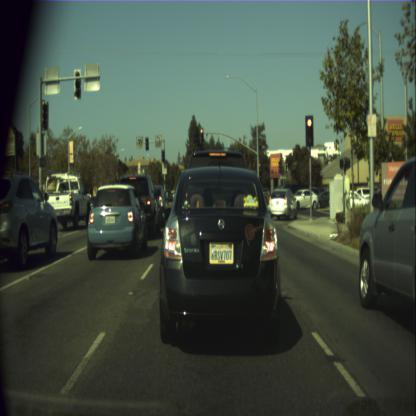Red: (305, 115, 313, 146), (200, 127, 204, 144), (258, 162, 260, 174)
off: (145, 136, 148, 150), (162, 148, 164, 160)
